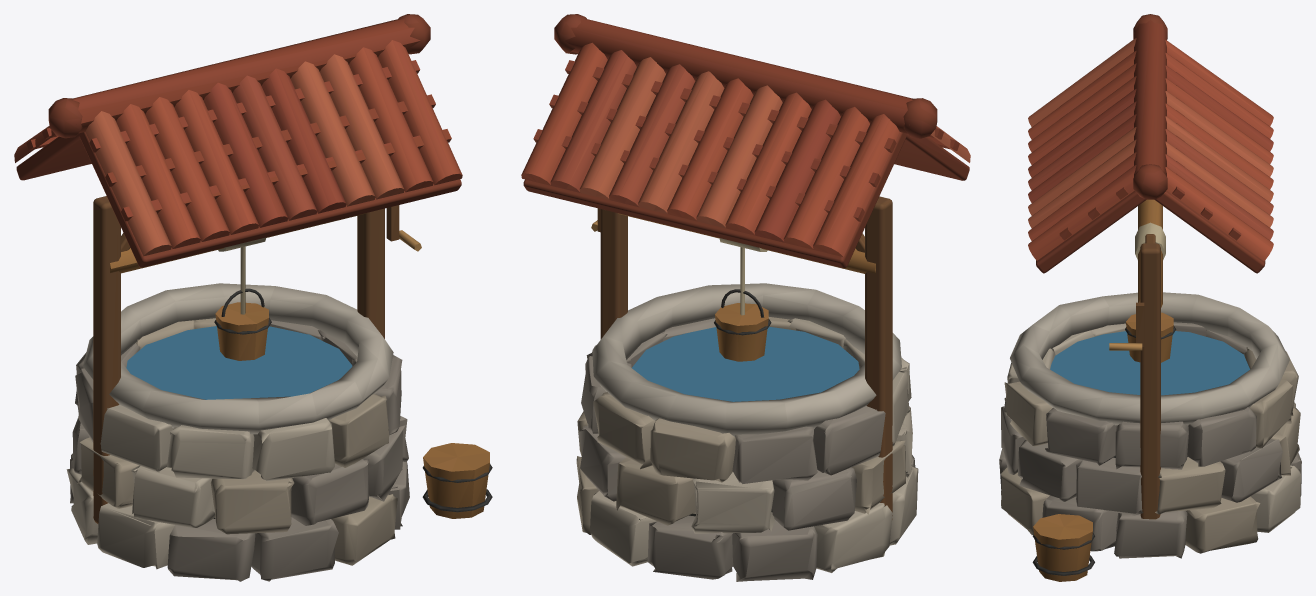
The model's file is well.glb.
The picture shows the model from 3 angles, left to right: view 1: azimuth 30°, elevation 25°; view 2: azimuth 150°, elevation 25°; view 3: azimuth 270°, elevation 25°; orthographic projection. The views are drawn at different scales.
Visible parts, largest first — view 1: well-kit, well-flat-3f7390; view 2: well-kit, well-flat-3f7390; view 3: well-kit, well-flat-3f7390.
Part boxes in pixels (x1,y1,x2,y2): well-kit: (14, 14, 492, 581); well-flat-3f7390: (126, 326, 352, 399); well-kit: (521, 14, 970, 581); well-flat-3f7390: (632, 326, 859, 401); well-kit: (999, 14, 1301, 581); well-flat-3f7390: (1050, 331, 1249, 395).
Size of the model in its own units: 1.95 by 2.19 by 1.47.
